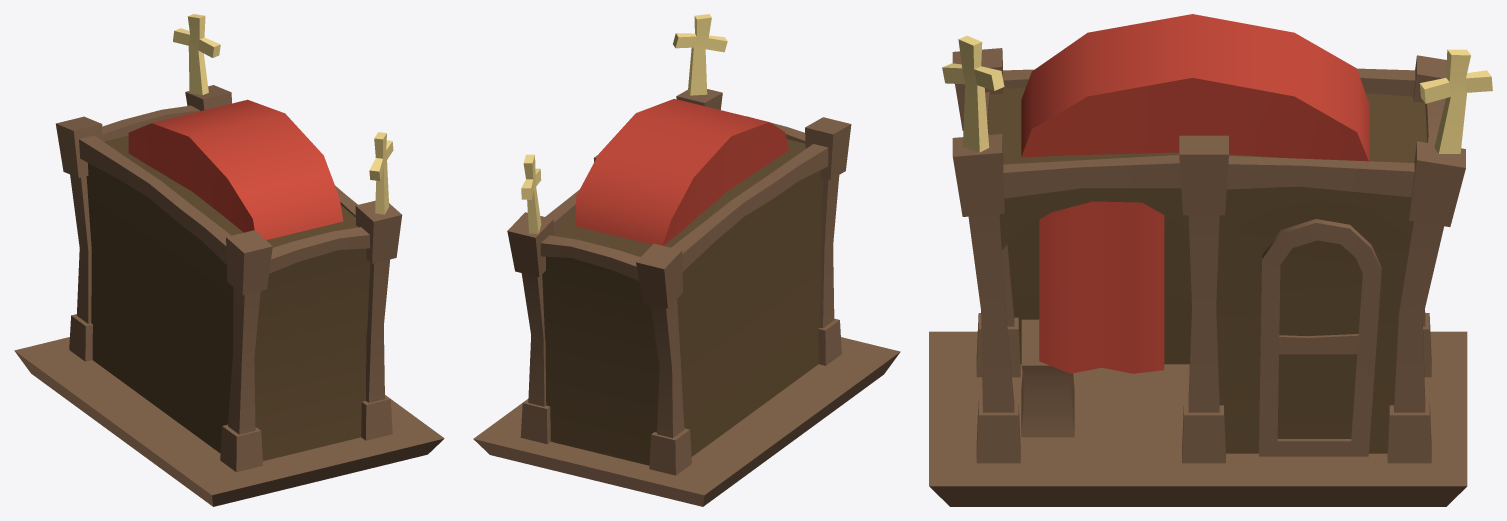
The model's file is M_confessional.FBX.
3 renders of one model, left to right at view 1: azimuth 30°, elevation 25°; view 2: azimuth 150°, elevation 25°; view 3: azimuth 270°, elevation 25°, orthographic. The views are drawn at different scales.
Parts seen in each view (by area): view 1: M_confessional; view 2: M_confessional; view 3: M_confessional.
Boxes of the visible parts, box(x1,y1,x2,y2) form: M_confessional: box(14, 14, 444, 506); M_confessional: box(473, 14, 900, 506); M_confessional: box(929, 14, 1492, 506).
Size of the model in its own units: 232 by 308 by 358.
